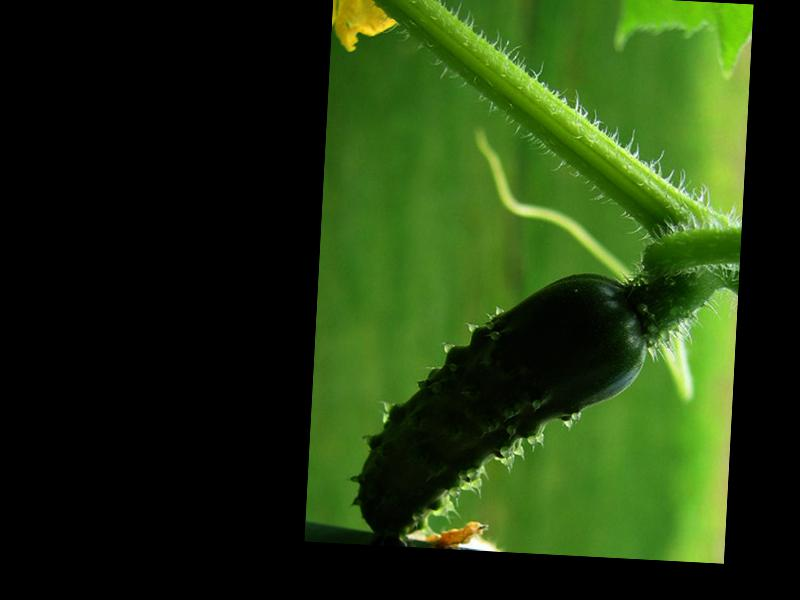Cucumber: (352, 257, 648, 549)
